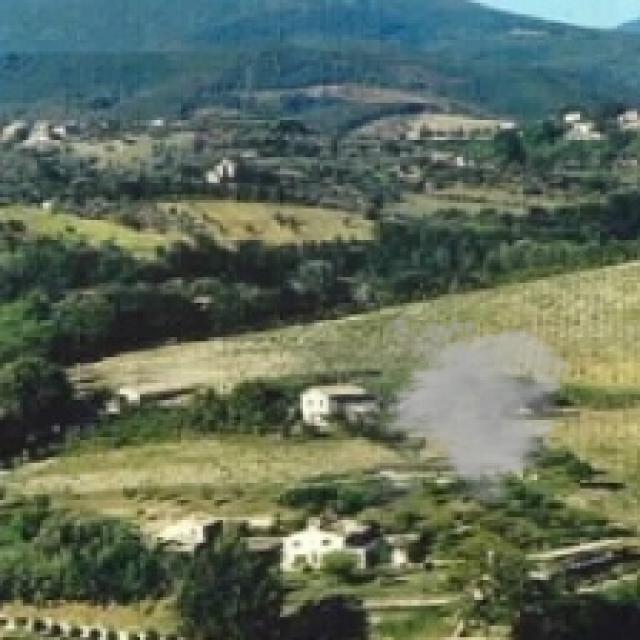Smoke: (366, 306, 574, 512)
